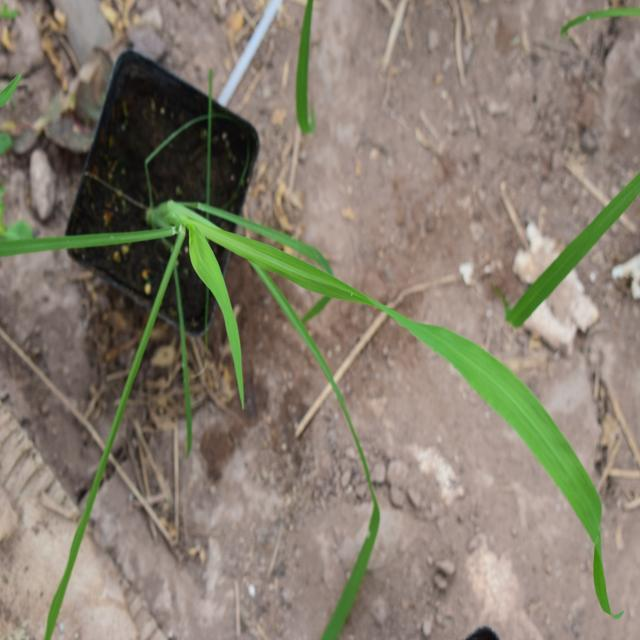barnyard_grass: (13, 181, 611, 579)
